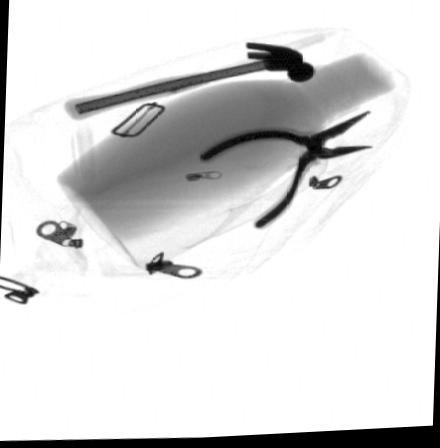Hammer: (60, 42, 314, 120)
Pliers: (197, 115, 371, 233)
